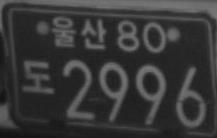0: (142, 20, 166, 54)
2: (62, 58, 95, 120)
6: (175, 66, 207, 128)
8: (116, 18, 140, 52)
9: (134, 63, 168, 126), (98, 61, 129, 123)
도: (21, 59, 54, 93)
울산_O: (51, 15, 106, 50)
